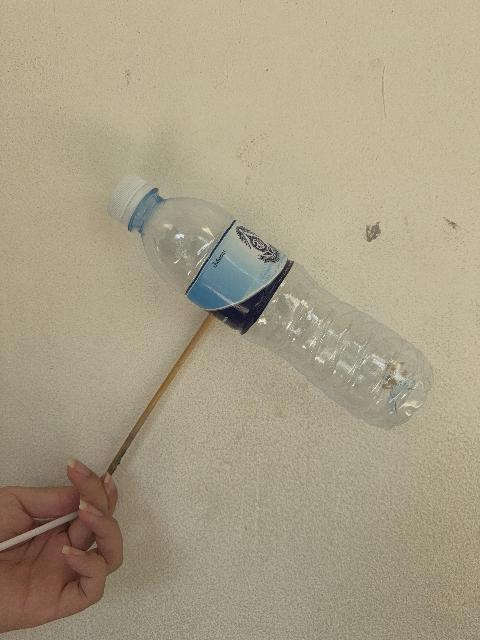bottle: (108, 176, 433, 428)
